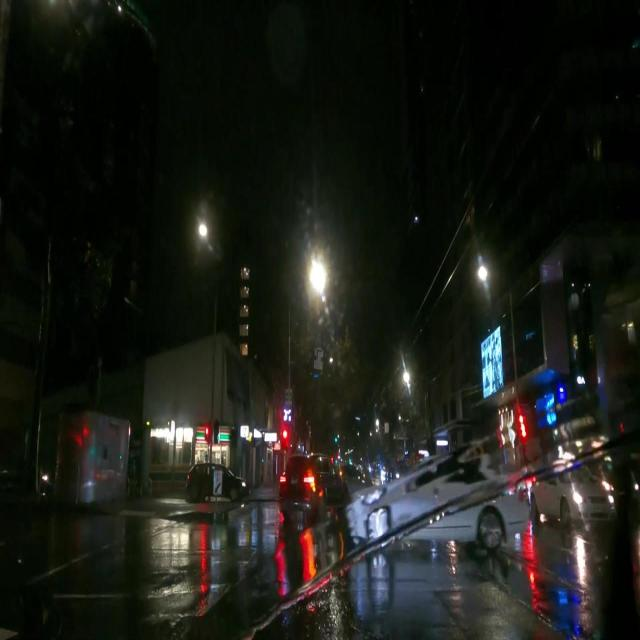Car: (350, 454, 531, 557), (277, 453, 349, 511)
